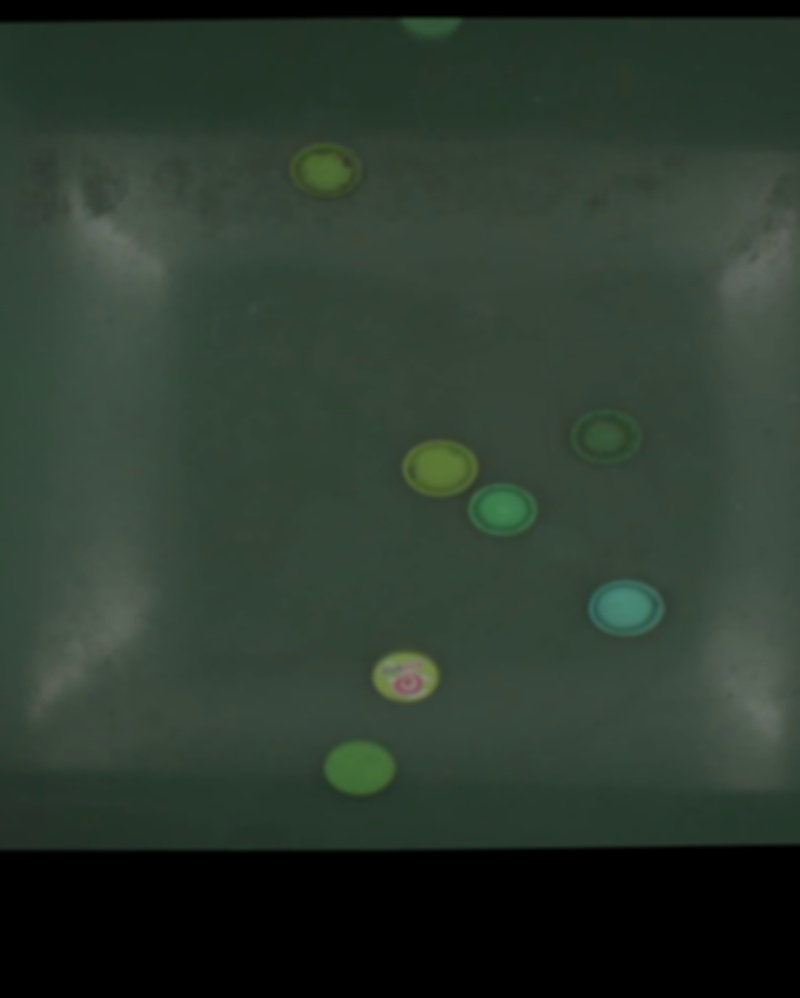Others: (400, 439, 479, 496), (588, 579, 666, 636), (322, 739, 398, 795), (567, 408, 643, 464), (288, 142, 364, 196), (466, 483, 540, 536), (370, 649, 442, 702)
